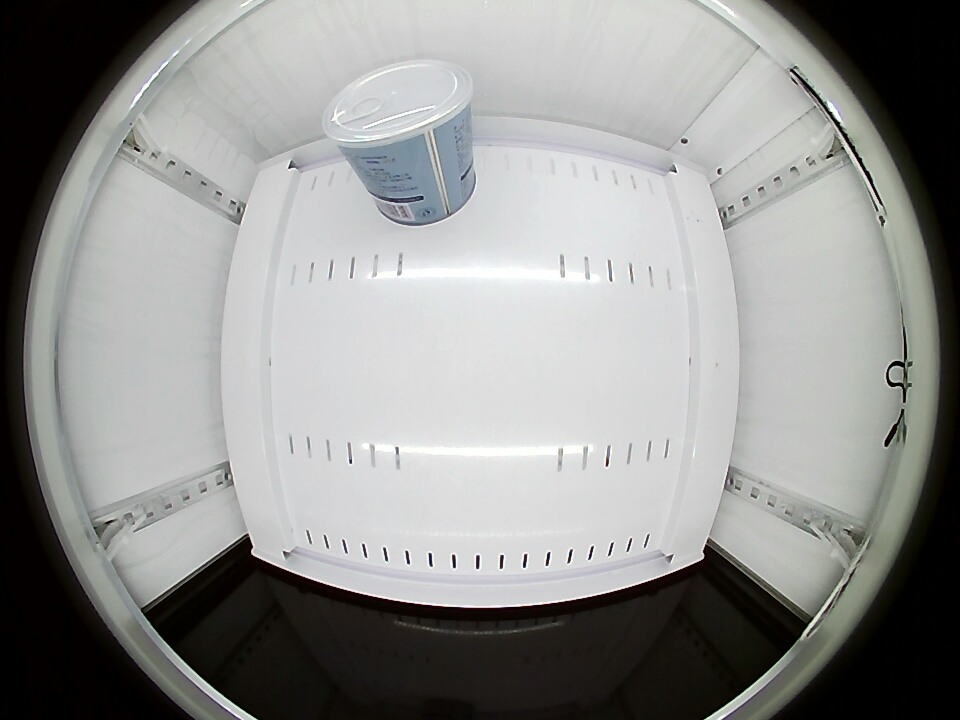haitai: (321, 59, 474, 167)
